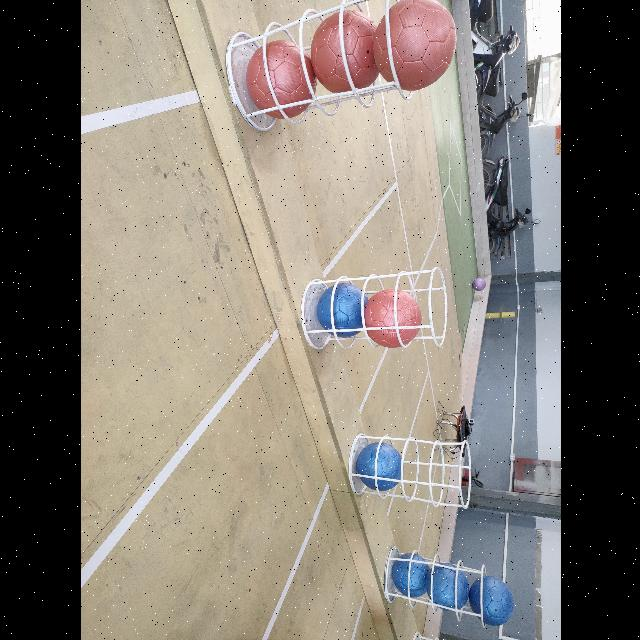B: (315, 282, 369, 341), (466, 576, 514, 628), (355, 443, 403, 493), (428, 562, 467, 608), (392, 552, 431, 594)
R: (378, 0, 460, 91), (310, 4, 378, 100), (244, 48, 316, 115), (364, 289, 422, 347)
